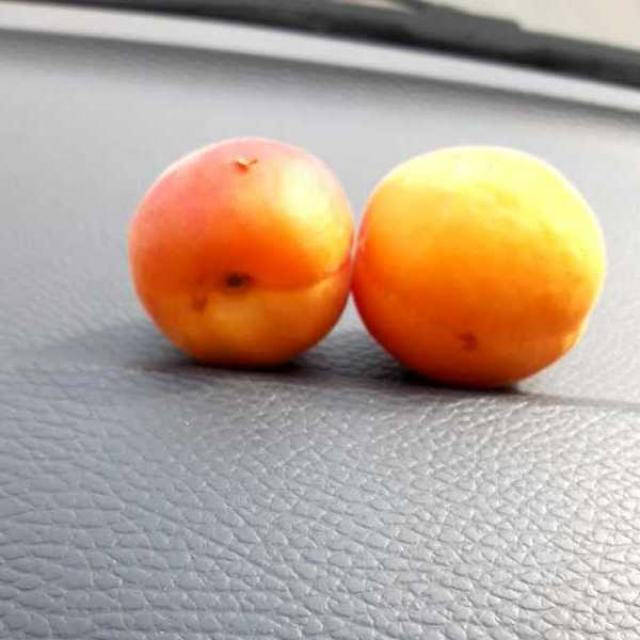apricots: (114, 134, 636, 406)
